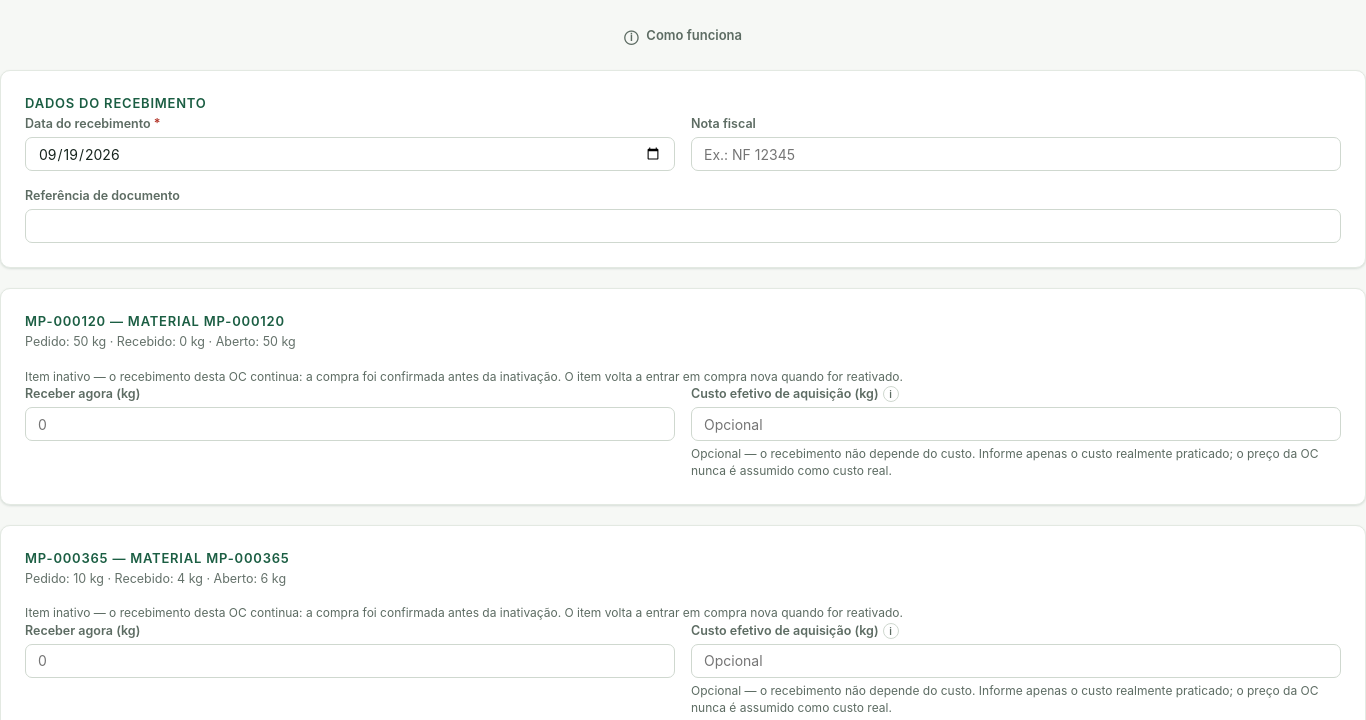
Test: Recebimento — o erro responde à edição (F-06-2) › erro de campo do servidor pousa na linha certa mesmo com linha em branco antes
The image size is (1366, 720).
expect the heading "MP-000365 — Material MP-000365" is shown: met, box [25,550,290,566]
Type "5" into the field labelled "Receber agora (kg)" below "MP-000365 — Material MP-000365".
click(350, 661); type("5")  # box [25,644,675,678]
(page scrolled)
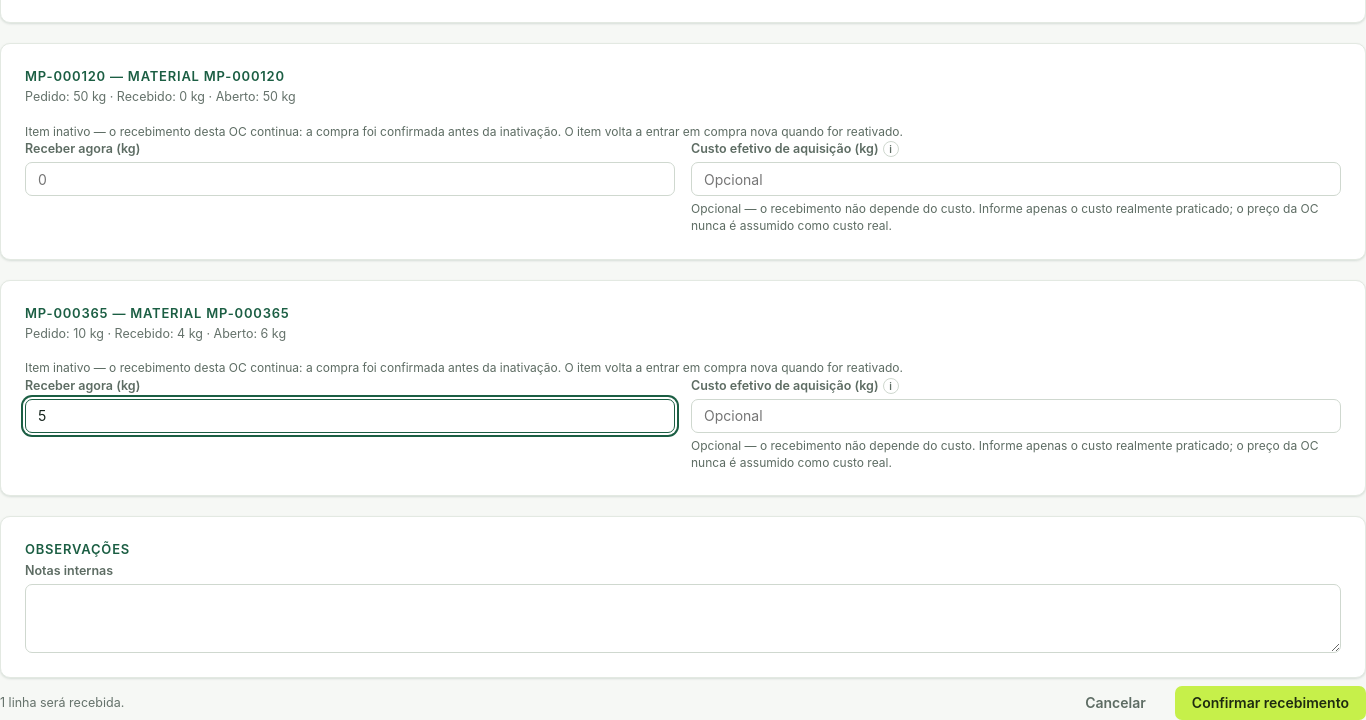
Click the button "Confirmar recebimento".
click(1270, 703)  # box [1175,686,1365,719]
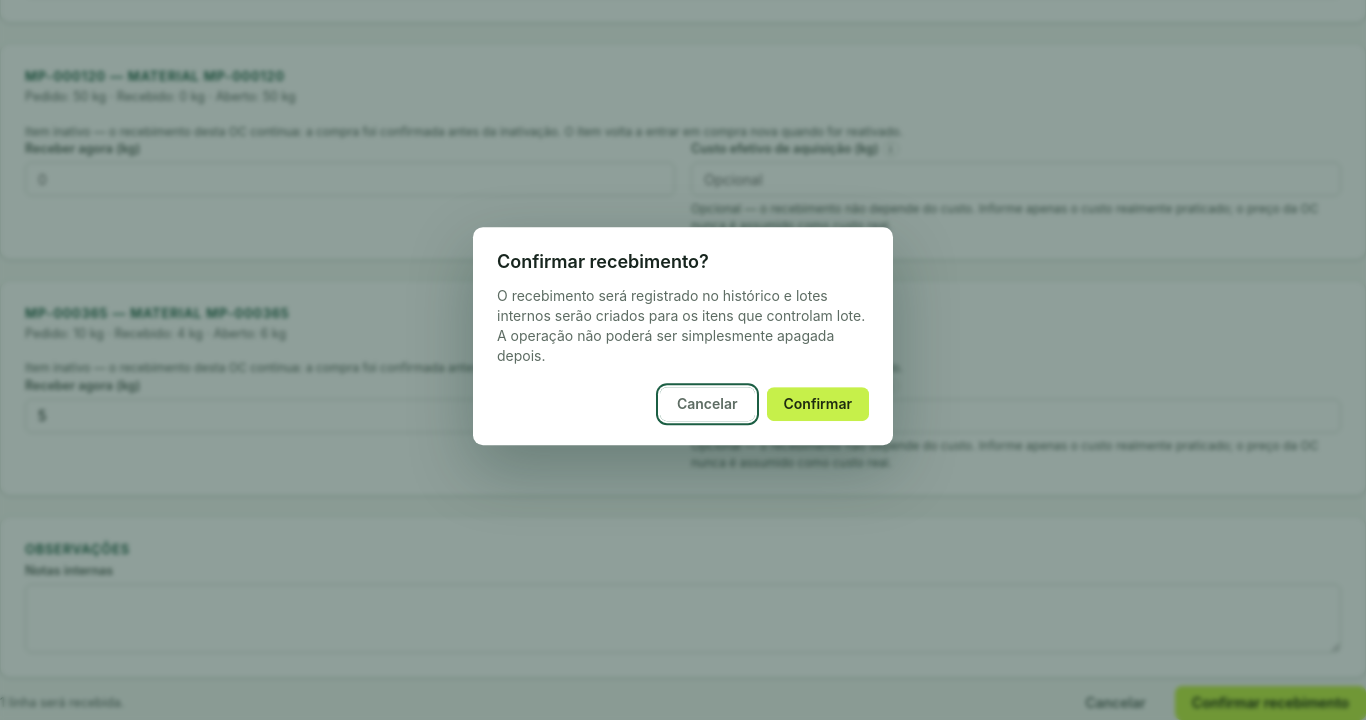
Click the button "Confirmar".
click(818, 404)  # box [766,387,869,421]
(page scrolled)
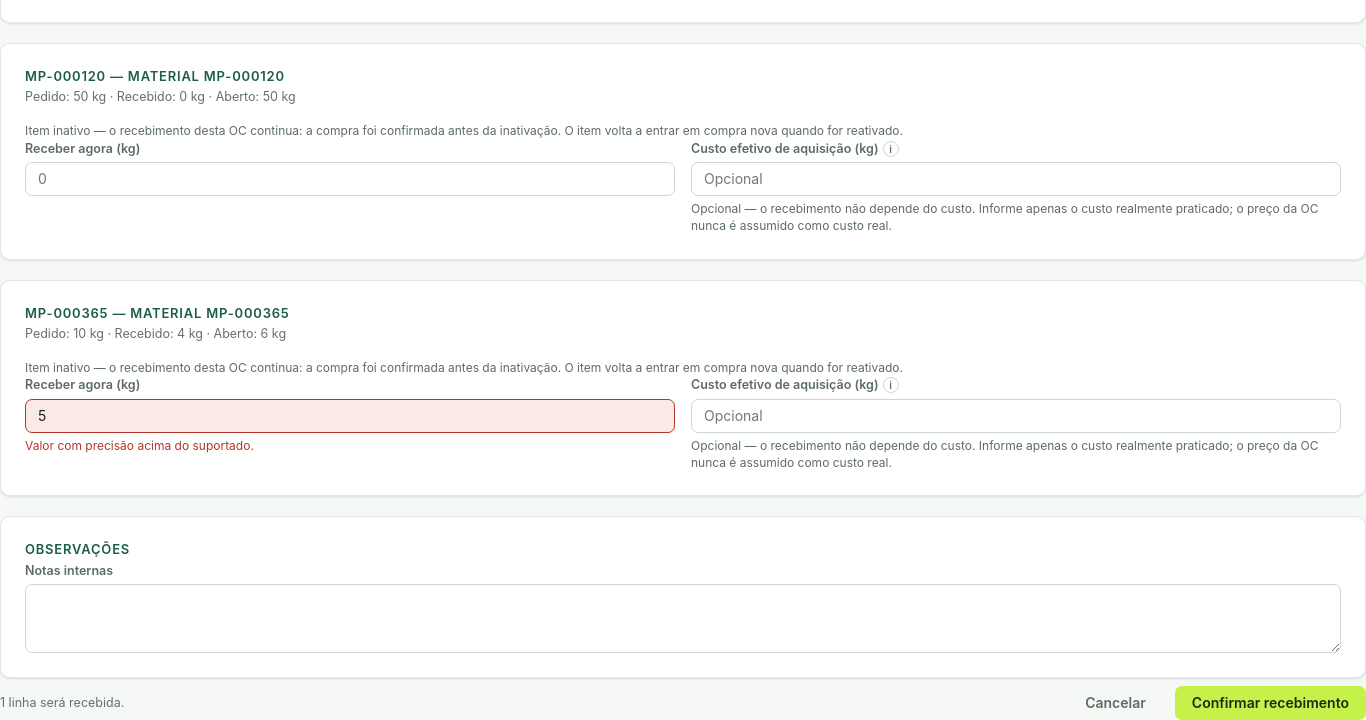
expect the text "Valor com precisão acima do suportado." is shown: met, box [25,438,254,452]
